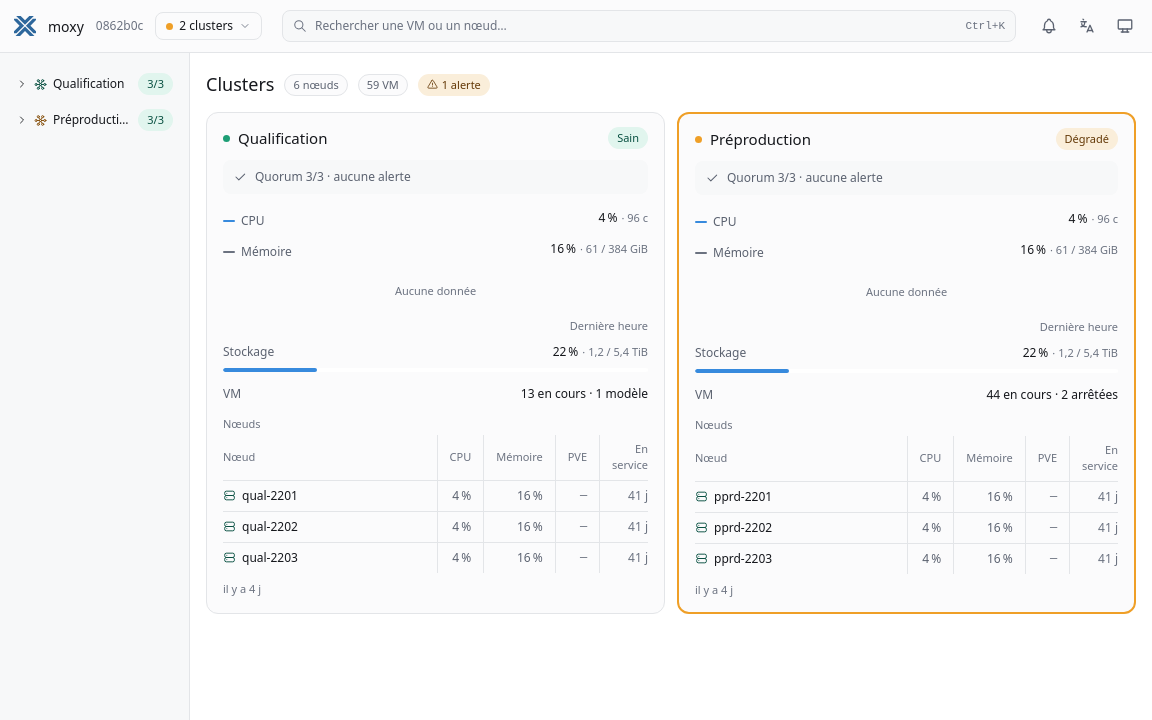
Test case: the alerts bell › says so when there is nothing to show
The image size is (1152, 720).
Click the button named "Notifications": x=1049, y=26 [1036,13,1062,39]
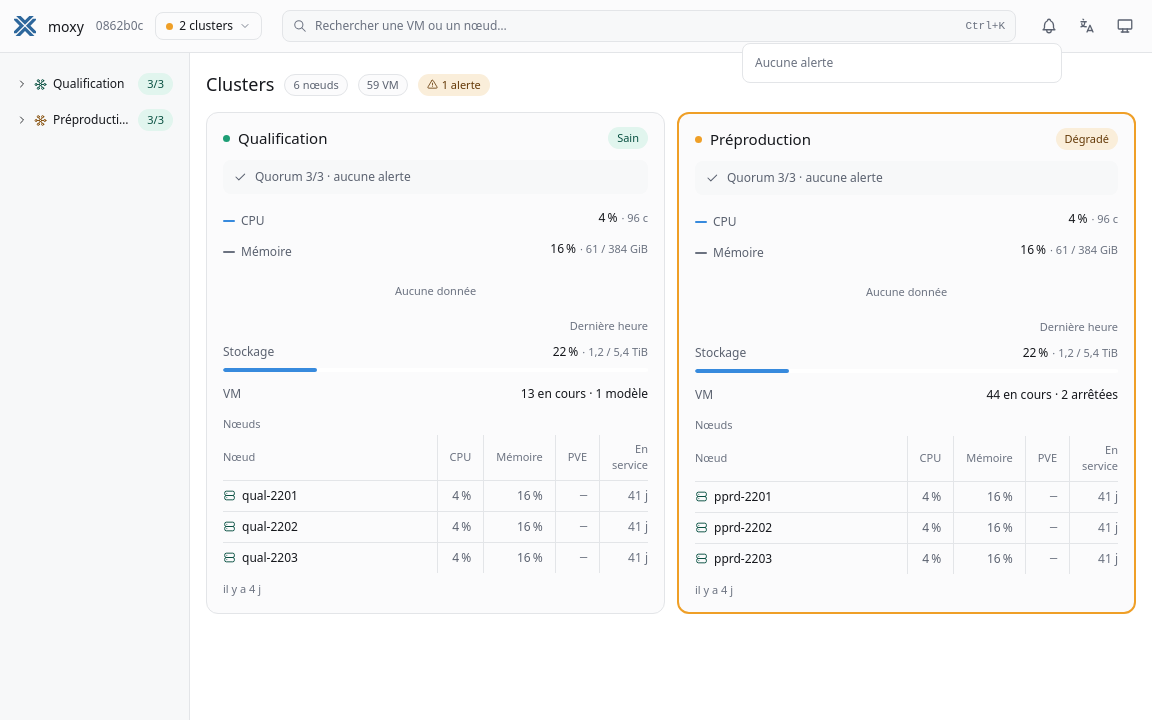
expect the text "Aucune alerte" is shown: met, box [755,54,833,71]
